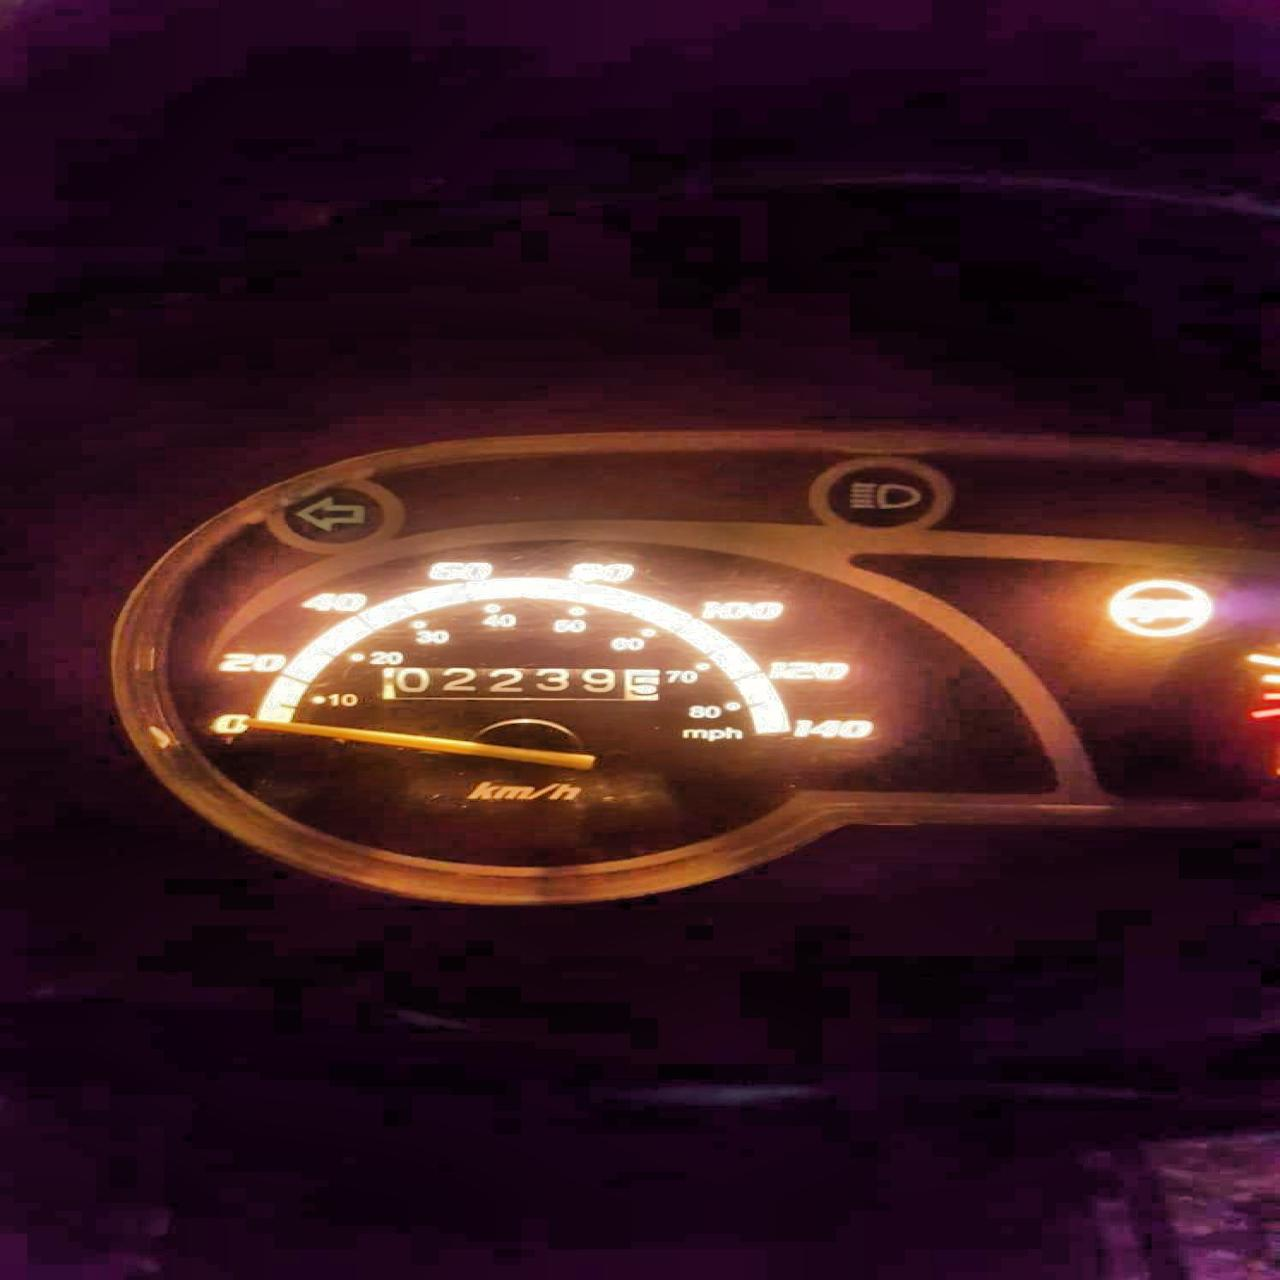0: (394, 665, 431, 692)
2: (437, 666, 474, 693), (486, 667, 524, 693)
3: (531, 666, 571, 693)
5: (627, 673, 658, 699)
9: (578, 666, 615, 692)
odometer: (377, 661, 665, 703)
